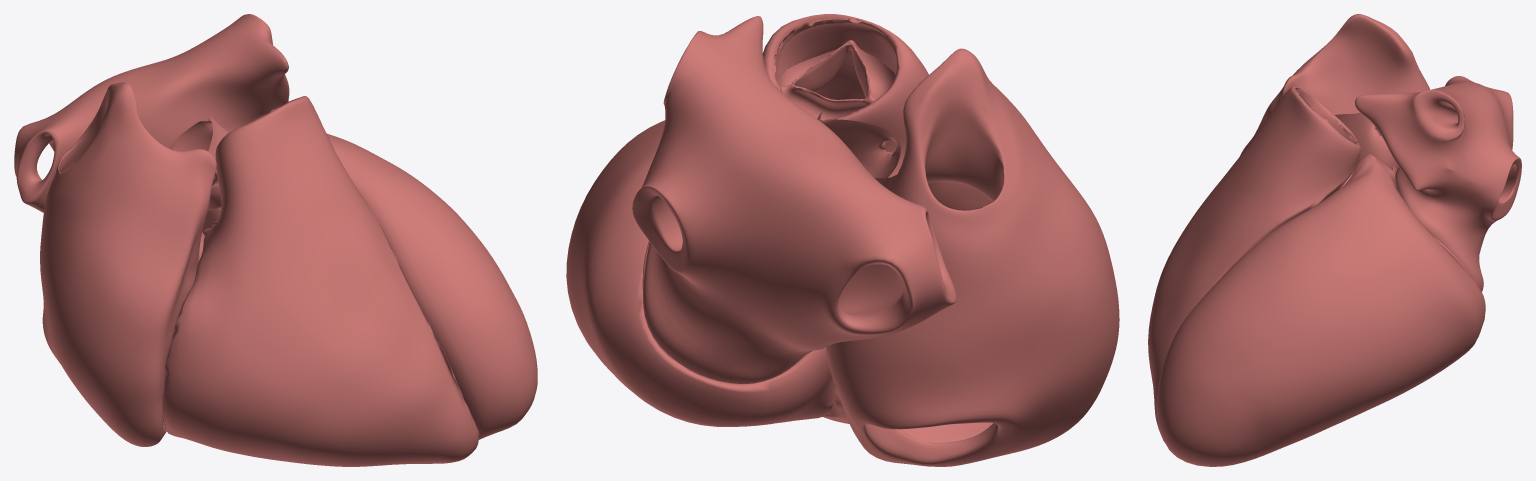
The model's file is vh_m_heart-100.glb.
The picture shows the model from 3 angles, left to right: view 1: azimuth 30°, elevation 25°; view 2: azimuth 150°, elevation 25°; view 3: azimuth 270°, elevation 25°; orthographic projection. The views are drawn at different scales.
Parts seen in each view (by area): view 1: VH_M_heart_right_ventricle, VH_M_right_cardiac_atrium, VH_M_heart_left_ventricle, VH_M_left_cardiac_atrium, VH_M_aortic_valve; view 2: VH_M_left_cardiac_atrium, VH_M_right_cardiac_atrium, VH_M_heart_left_ventricle, VH_M_heart_right_ventricle, VH_M_pulmonary_valve, VH_M_aortic_valve; view 3: VH_M_heart_left_ventricle, VH_M_heart_right_ventricle, VH_M_left_cardiac_atrium, VH_M_right_cardiac_atrium, VH_M_aortic_valve.
Part boxes in pixels (x1,y1,x2,y2): VH_M_heart_right_ventricle: [162, 96, 478, 466]; VH_M_right_cardiac_atrium: [40, 82, 216, 446]; VH_M_heart_left_ventricle: [202, 133, 537, 439]; VH_M_left_cardiac_atrium: [14, 14, 289, 212]; VH_M_aortic_valve: [170, 114, 229, 210]; VH_M_left_cardiac_atrium: [632, 16, 956, 383]; VH_M_right_cardiac_atrium: [826, 48, 1119, 466]; VH_M_heart_left_ventricle: [566, 120, 833, 426]; VH_M_heart_right_ventricle: [763, 14, 928, 423]; VH_M_pulmonary_valve: [773, 19, 895, 119]; VH_M_aortic_valve: [817, 112, 900, 188]; VH_M_heart_left_ventricle: [1156, 153, 1485, 466]; VH_M_heart_right_ventricle: [1148, 86, 1360, 442]; VH_M_left_cardiac_atrium: [1355, 76, 1521, 291]; VH_M_right_cardiac_atrium: [1240, 14, 1429, 155]; VH_M_aortic_valve: [1334, 112, 1398, 169].
Size of the model in its own units: 0.1244 by 0.1054 by 0.1052.
